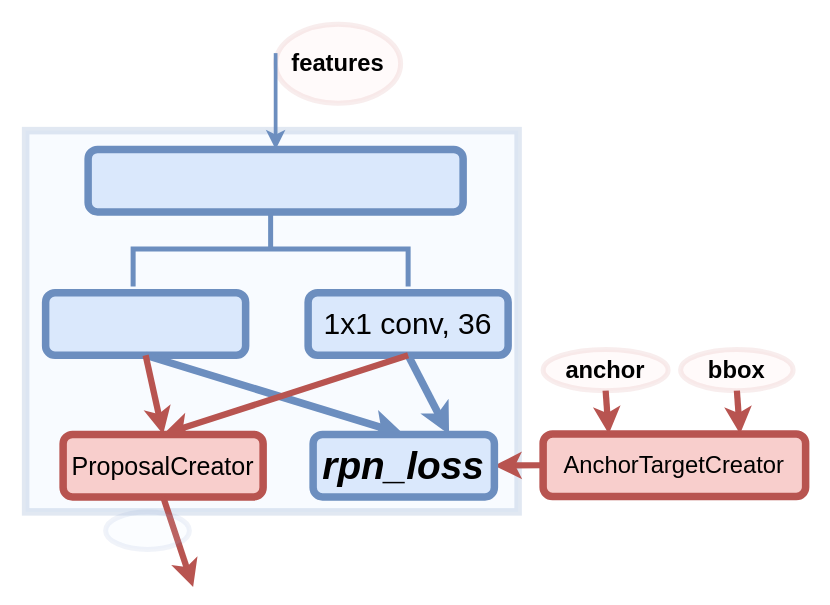
The diagram is 830 pixels wide and 605 high, and some of its shapes have lost their labels. Here are the shapes that lost their labels. From the top down, the centre of each, then its label:
point (275, 180): 3x3 conv, 512
point (145, 323): 1x1 conv, 18
point (146, 530): rois
